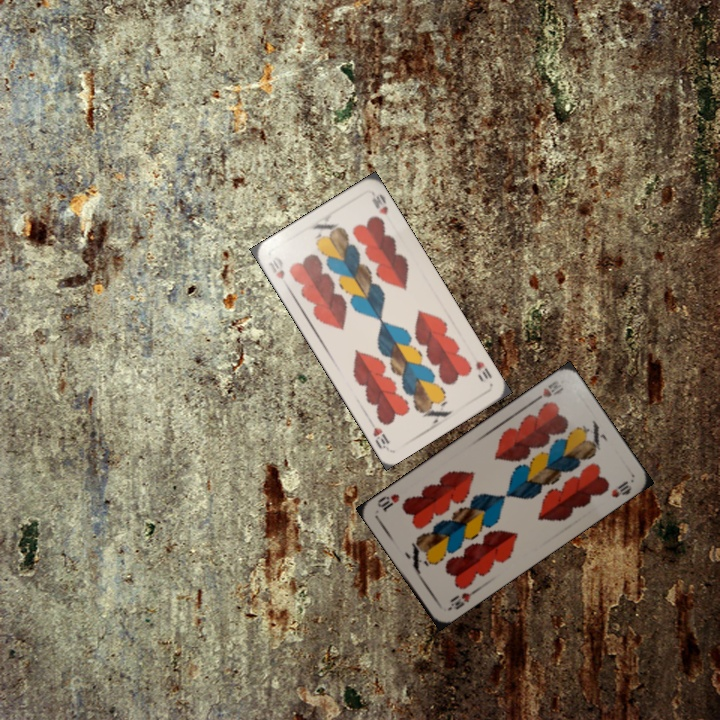H10: (529, 376, 566, 405), (443, 585, 480, 613), (264, 256, 287, 282), (472, 357, 495, 381)
